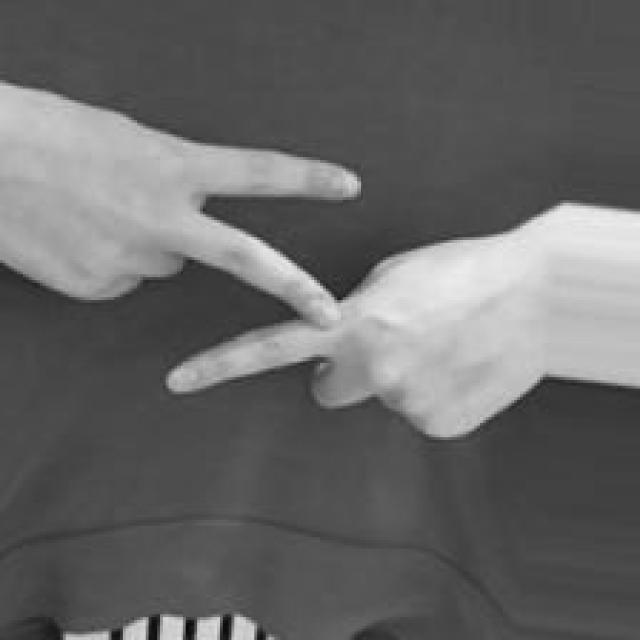Z: (0, 81, 640, 440)
